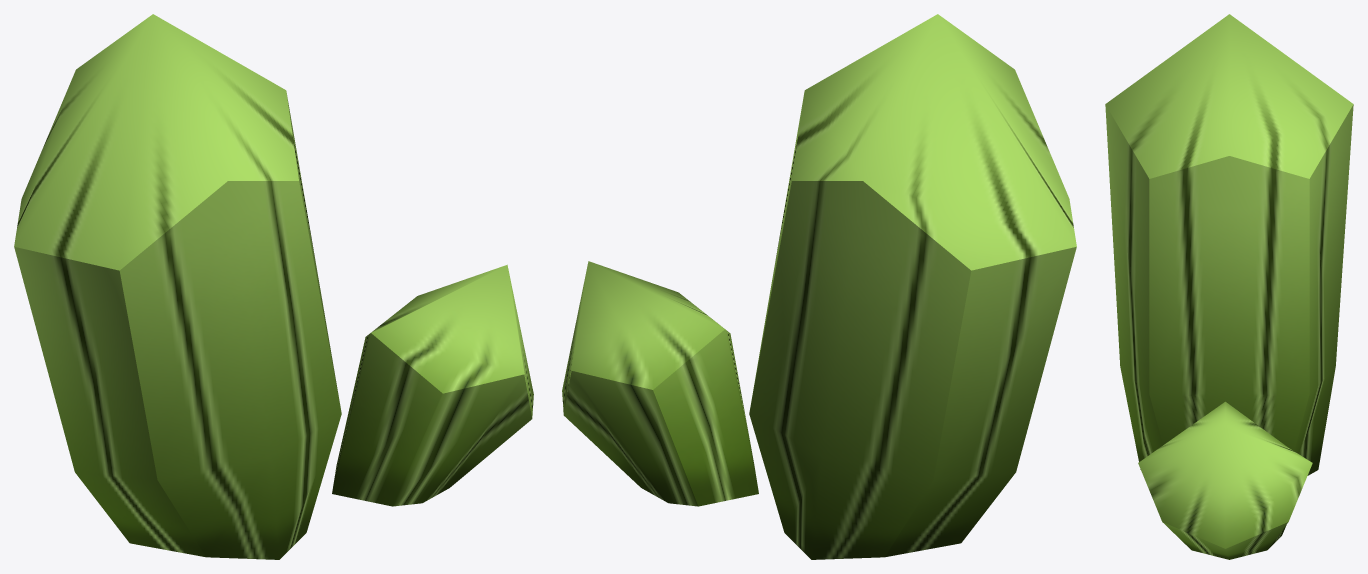
File: Cactus05.fbx
3 views of the same model, side by side, from view 1: azimuth 30°, elevation 25°; view 2: azimuth 150°, elevation 25°; view 3: azimuth 270°, elevation 25° (orthographic). The views are drawn at different scales.
Parts seen in each view (by area): view 1: Cactus05; view 2: Cactus05; view 3: Cactus05.
Part boxes in pixels (box(x1,y1,x2,y2)): Cactus05: box(14, 14, 533, 559); Cactus05: box(562, 14, 1076, 559); Cactus05: box(1105, 14, 1353, 559).
Bounding box in the file's own units: 5.54 × 5.36 × 2.82.
